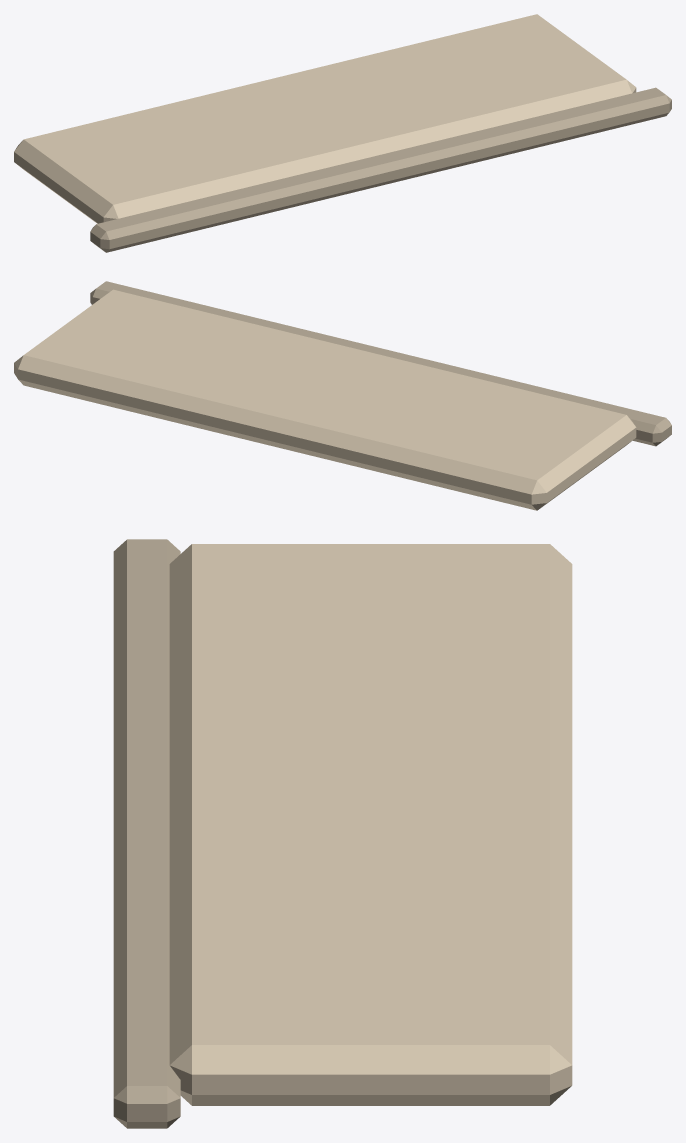
File: doorstep_threshold.glb
3 renders of one model, top to bottom at view 1: azimuth 30°, elevation 25°; view 2: azimuth 150°, elevation 25°; view 3: azimuth 270°, elevation 25°, orthographic. The views are drawn at different scales.
Visible parts, largest first — view 1: doorstep_threshold; view 2: doorstep_threshold; view 3: doorstep_threshold.
Part boxes in pixels (left/top/right/bottom): doorstep_threshold: left=14, top=14, right=671, bottom=252; doorstep_threshold: left=14, top=281, right=671, bottom=510; doorstep_threshold: left=113, top=539, right=572, bottom=1128.
Size of the model in its own units: 1.18 by 0.06 by 0.41.
